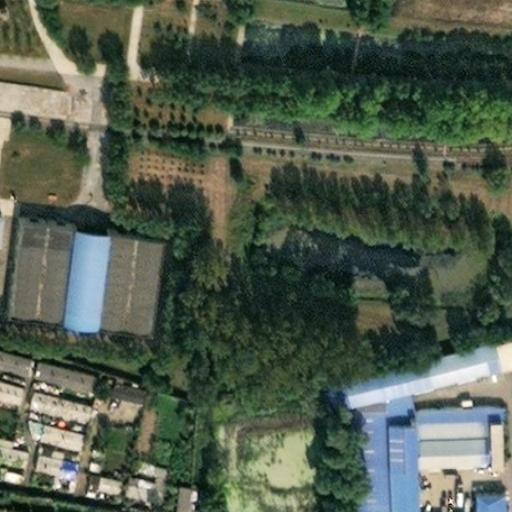building: (311, 331, 488, 402), (83, 224, 146, 319), (122, 379, 187, 468), (333, 389, 373, 498), (50, 220, 94, 313), (371, 383, 402, 512), (0, 76, 73, 118), (90, 368, 140, 422), (78, 411, 128, 461), (111, 443, 160, 493), (401, 423, 474, 455), (25, 350, 91, 384), (402, 489, 494, 512), (400, 397, 474, 425), (177, 398, 204, 471), (21, 380, 81, 406), (26, 411, 75, 442), (76, 452, 114, 489), (480, 323, 512, 362), (473, 397, 490, 454), (27, 441, 67, 464), (492, 420, 509, 470), (30, 431, 69, 451), (178, 482, 203, 512), (0, 431, 22, 457), (1, 460, 27, 479), (0, 108, 13, 142)
